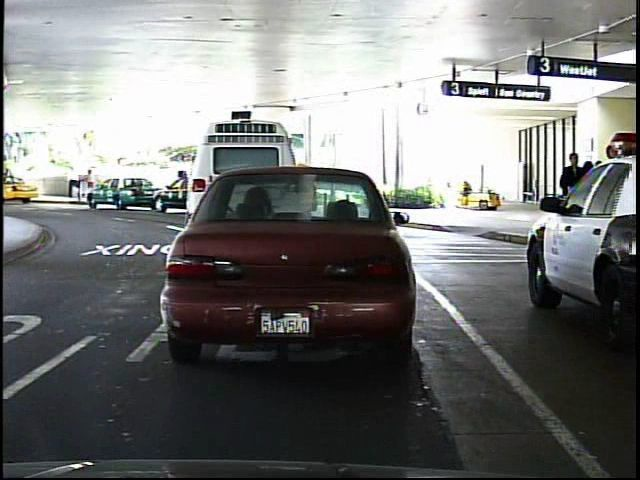person: (555, 146, 590, 244), (82, 164, 100, 199), (66, 161, 80, 200)
